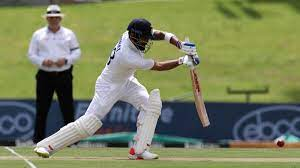bottom left: (200, 121, 208, 129)
bottom right: (207, 119, 214, 127)
top left: (188, 68, 196, 75)
